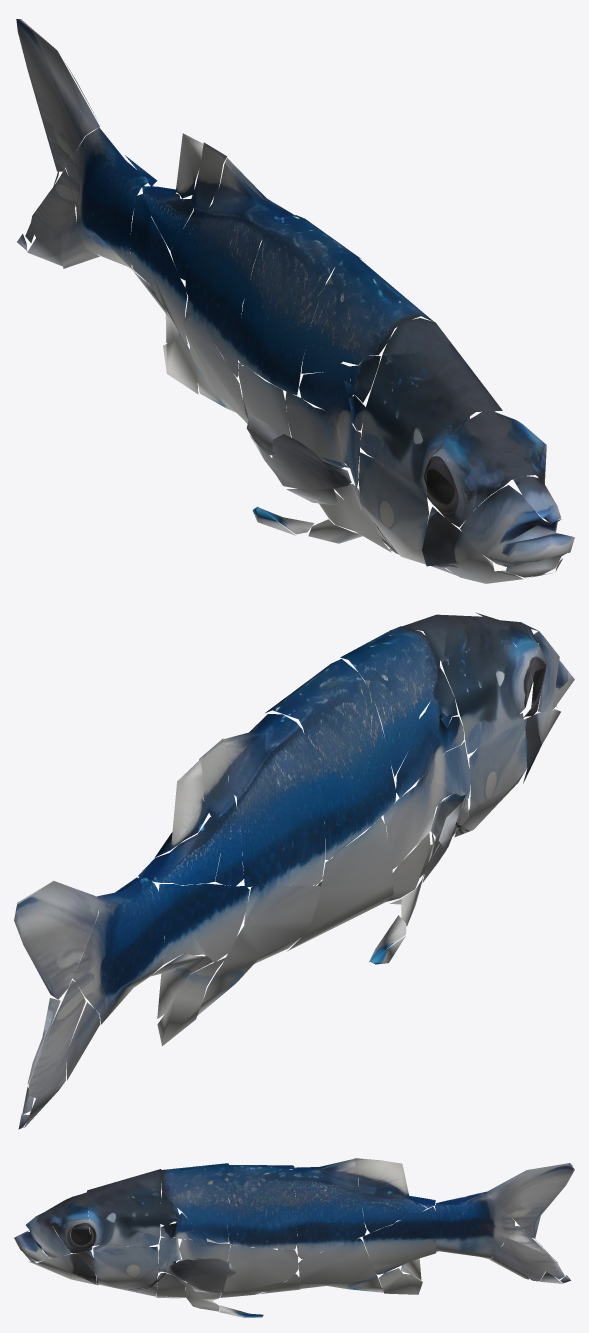
The model's file is trop_wrasse.glb.
3 views of the same model, one above another, from view 1: azimuth 30°, elevation 25°; view 2: azimuth 150°, elevation 25°; view 3: azimuth 270°, elevation 25° (orthographic). The views are drawn at different scales.
Parts seen in each view (by area): view 1: tripo_node_7c3b0566-020a-40bf-a27a-771338996d58; view 2: tripo_node_7c3b0566-020a-40bf-a27a-771338996d58; view 3: tripo_node_7c3b0566-020a-40bf-a27a-771338996d58.
Boxes of the visible parts, x1=… form: tripo_node_7c3b0566-020a-40bf-a27a-771338996d58: x1=16, y1=19, x2=574, y2=583; tripo_node_7c3b0566-020a-40bf-a27a-771338996d58: x1=14, y1=612, x2=574, y2=1129; tripo_node_7c3b0566-020a-40bf-a27a-771338996d58: x1=14, y1=1158, x2=574, y2=1317.
Bounding box in the file's own units: 0.2155 × 0.2864 × 1.
Materials: 1 (1 with a texture image).
